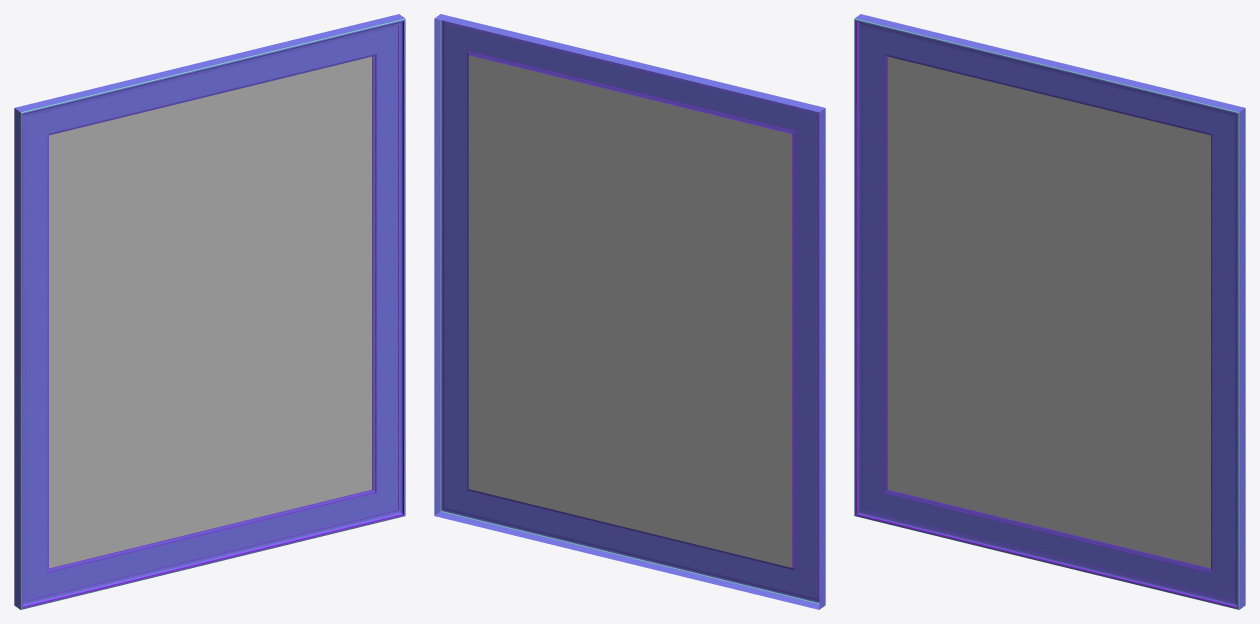
3 renders of one model, left to right at view 1: azimuth 30°, elevation 25°; view 2: azimuth 150°, elevation 25°; view 3: azimuth 330°, elevation 25°, orthographic.
Parts seen in each view (by area): view 1: _14_08, _14_08_frame; view 2: _14_08, _14_08_frame; view 3: _14_08, _14_08_frame.
Part boxes in pixels (<box>): _14_08: <box>49,56,372,568</box>; _14_08_frame: <box>14,14,405,609</box>; _14_08: <box>468,55,792,567</box>; _14_08_frame: <box>434,14,825,609</box>; _14_08: <box>887,56,1210,568</box>; _14_08_frame: <box>854,14,1245,609</box>.
Size of the model in its own units: 251 by 310 by 7.35.
